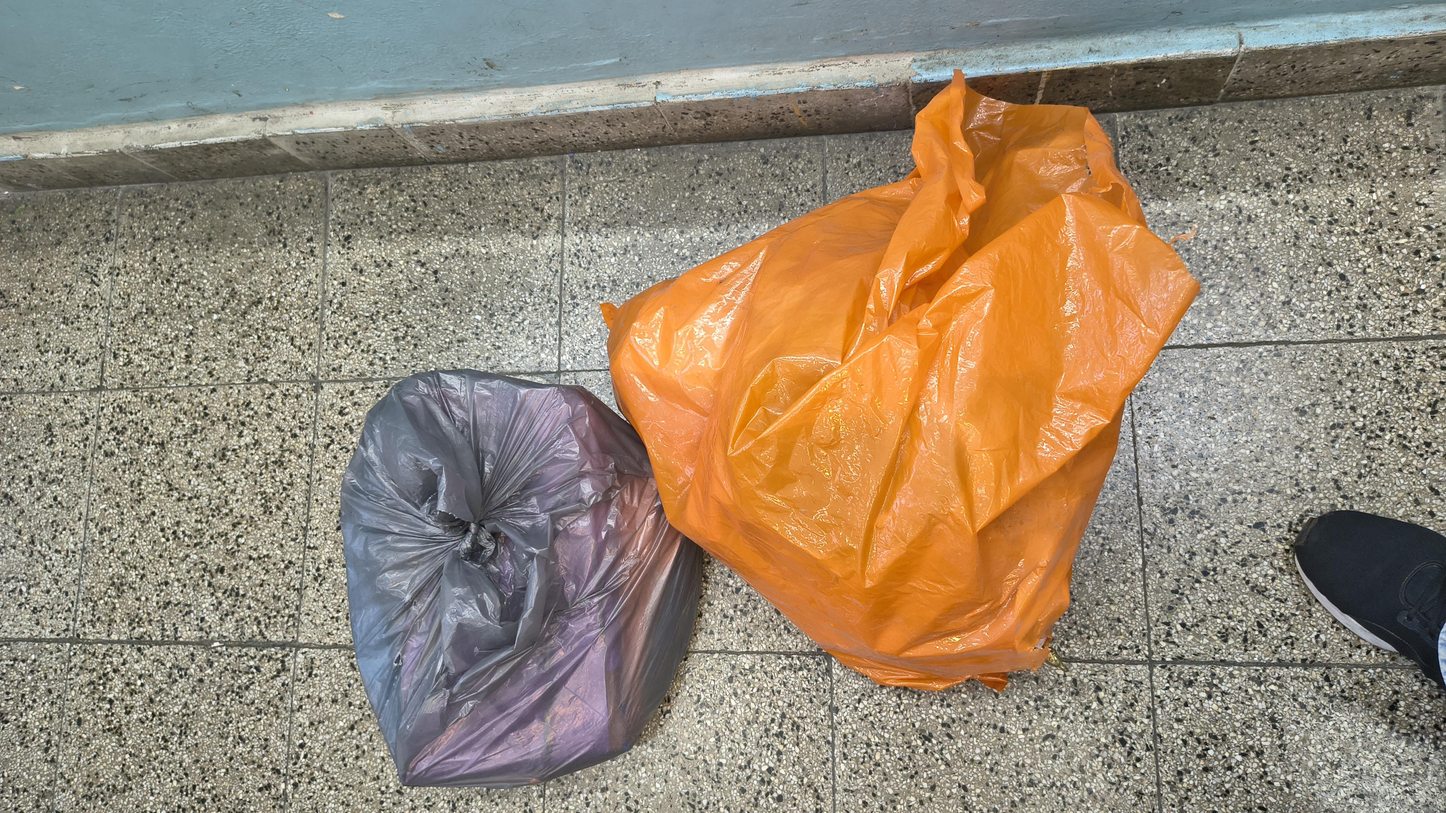Garbage: (607, 35, 1216, 704), (311, 332, 701, 789)
